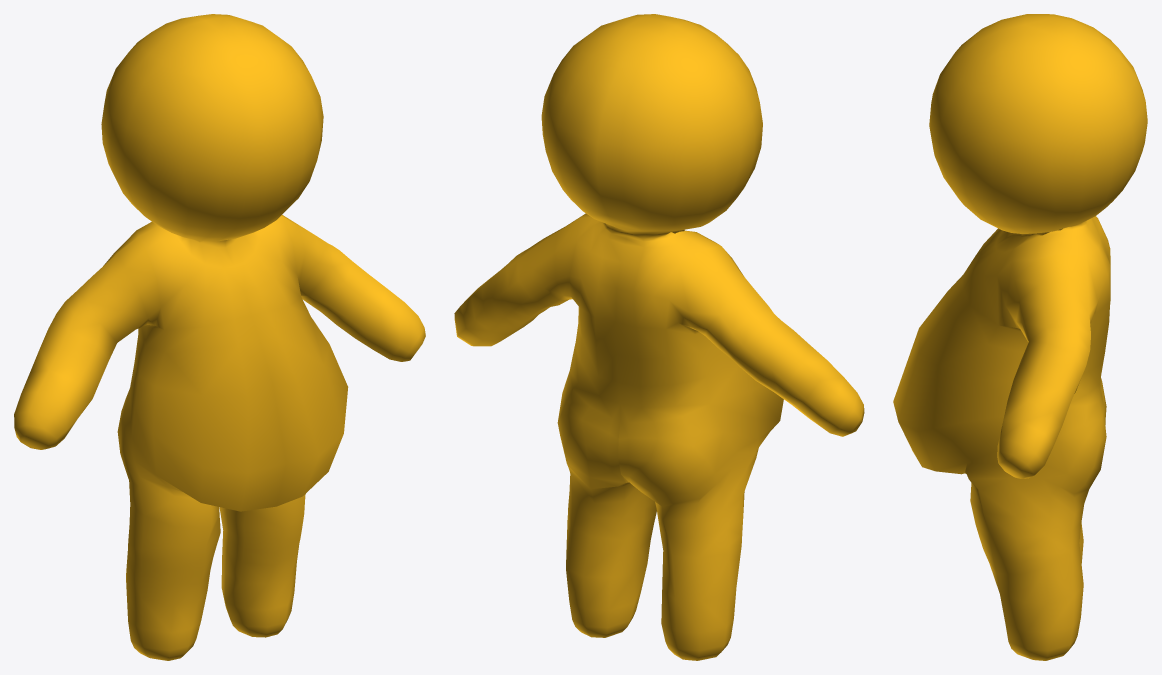
Rendered from charFatness.fbx.
3 renders of one model, left to right at view 1: azimuth 30°, elevation 25°; view 2: azimuth 150°, elevation 25°; view 3: azimuth 270°, elevation 25°, orthographic.
Parts seen in each view (by area): view 1: Stickman_heads_sphere; view 2: Stickman_heads_sphere; view 3: Stickman_heads_sphere.
Part boxes in pixels (x1=…): Stickman_heads_sphere: x1=14, y1=14, x2=425, y2=660; Stickman_heads_sphere: x1=454, y1=14, x2=864, y2=660; Stickman_heads_sphere: x1=893, y1=14, x2=1147, y2=660.
Size of the model in its own units: 1.3 by 1.88 by 0.7149.
Materials: 1 (1 with a texture image).
